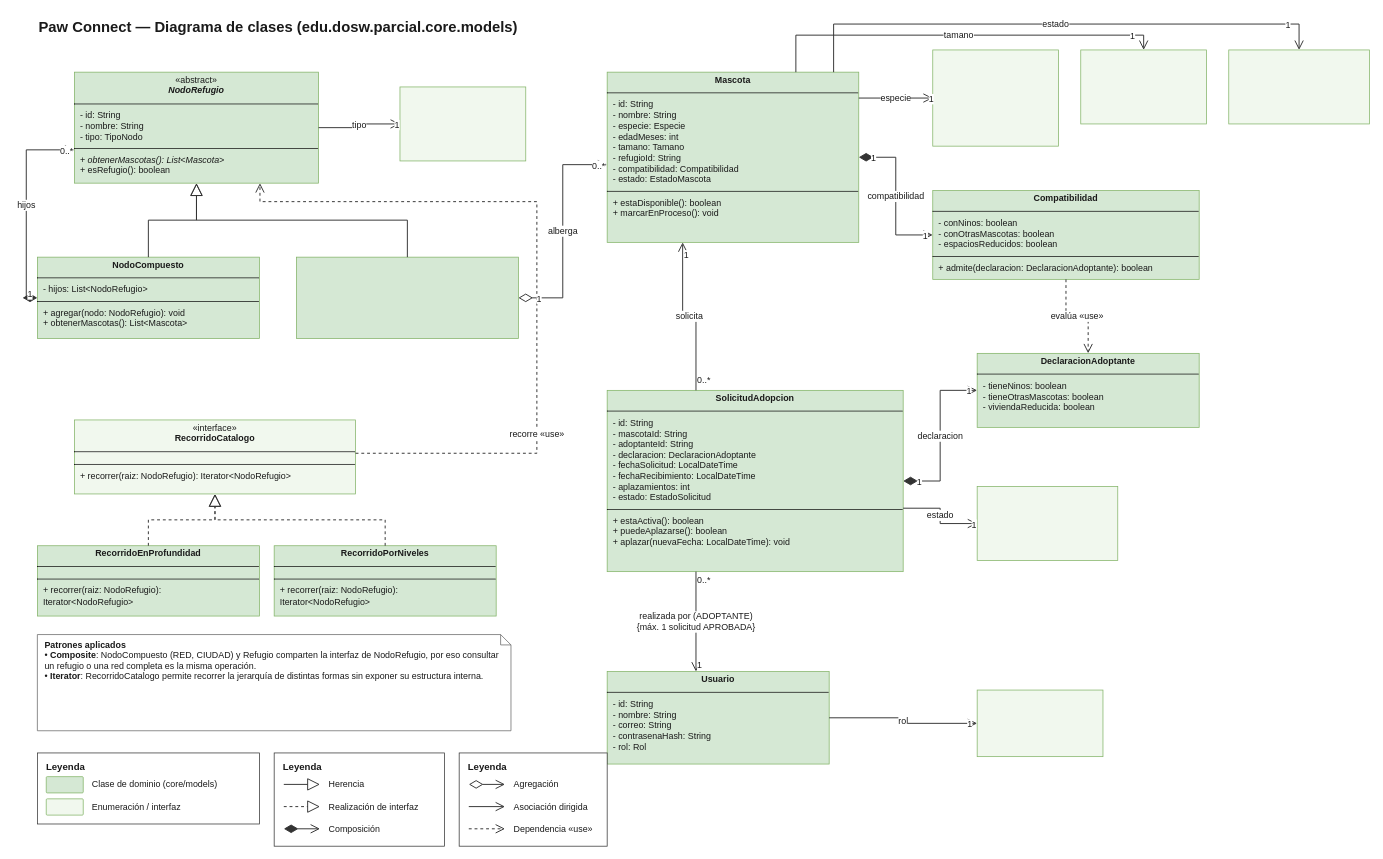
The diagram is 1383 pixels wide and 859 high, and some of its shapes have lost their labels. Each missing label, with the centre of its shape:
Refugio - mascotas: List<Mascota> + obtenerMascotas(): List<Mascota>: [407,297]
«enumeration» Especie PERRO GATO CONEJO AVE REPTIL: [995,97]
«enumeration» EstadoMascota DISPONIBLE EN_PROCESO ADOPTADA: [1298,86]
«enumeration» EstadoSolicitud APROBADA COMPLETADA CANCELADA: [1047,523]
«enumeration» Rol ADMIN ADOPTANTE: [1039,723]
«enumeration» Tamano PEQUENO MEDIANO GRANDE: [1143,86]
«enumeration» TipoNodo RED CIUDAD REFUGIO: [462,123]
